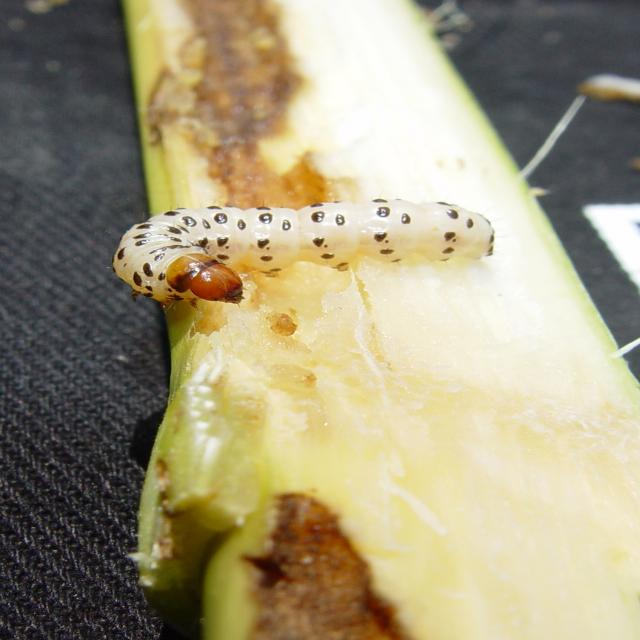cornborer-Larva-: (93, 193, 504, 314)
